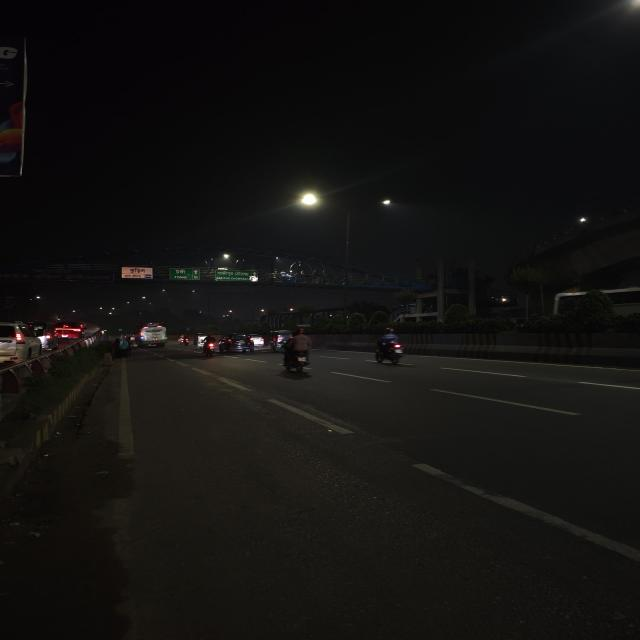bus: (137, 323, 168, 349)
car: (0, 320, 40, 362), (52, 323, 86, 341), (226, 334, 256, 354)
motorcycle: (280, 327, 320, 379), (368, 327, 414, 367), (196, 335, 227, 359), (178, 334, 193, 348)
